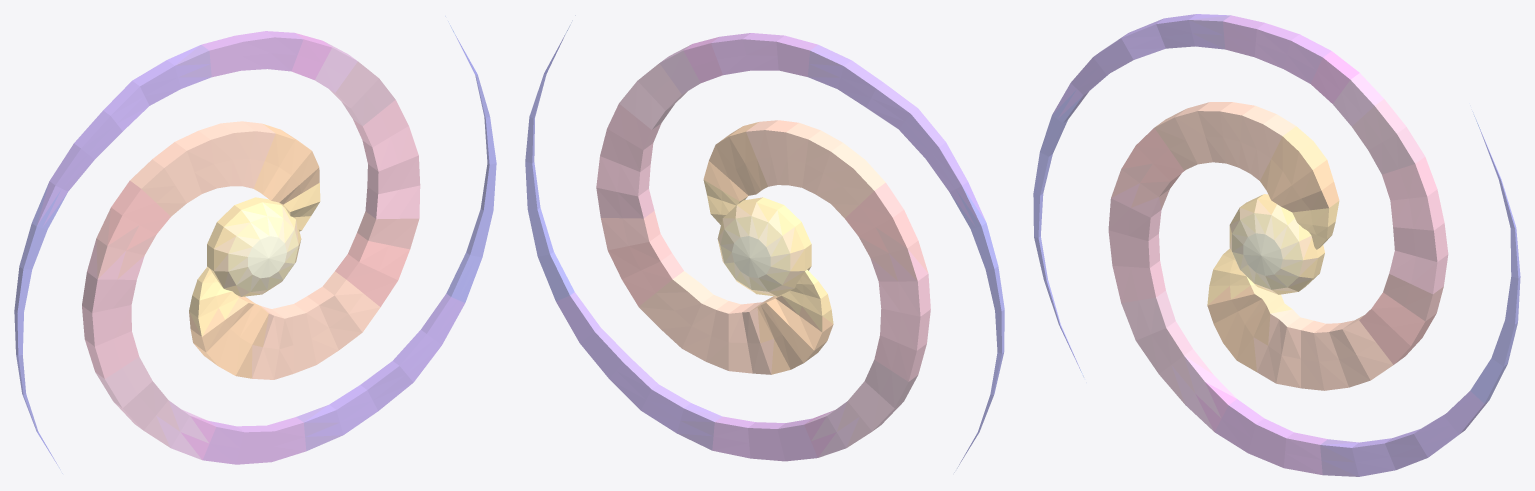
Rendered from galaxy-006.glb.
3 views of the same model, side by side, from view 1: azimuth 30°, elevation 25°; view 2: azimuth 150°, elevation 25°; view 3: azimuth 330°, elevation 25° (orthographic).
Parts seen in each view (by area): view 1: galaxy-006; view 2: galaxy-006; view 3: galaxy-006.
Part boxes in pixels (x1,y1,x2,y2): galaxy-006: (14,16,496,473); galaxy-006: (525,15,1004,472); galaxy-006: (1033,14,1520,476).
Bounding box in the file's own units: 139 × 118 × 15.25.
